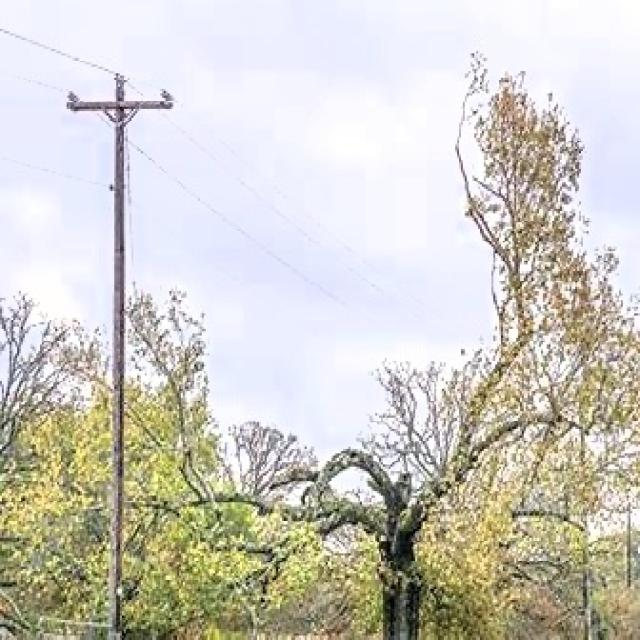utility poles: (34, 48, 215, 638)
